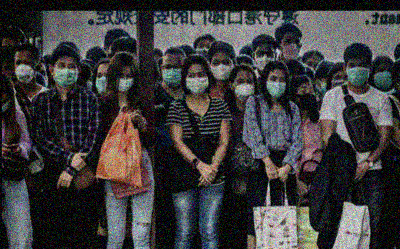with_mask: (52, 59, 78, 87), (160, 60, 184, 86), (11, 57, 35, 83), (230, 75, 253, 101), (345, 60, 369, 84), (184, 69, 207, 94), (210, 57, 233, 80), (264, 73, 284, 98), (372, 65, 392, 89), (296, 83, 314, 109), (253, 49, 274, 71), (93, 69, 110, 95), (113, 69, 133, 91), (281, 36, 299, 59), (0, 96, 9, 116)
